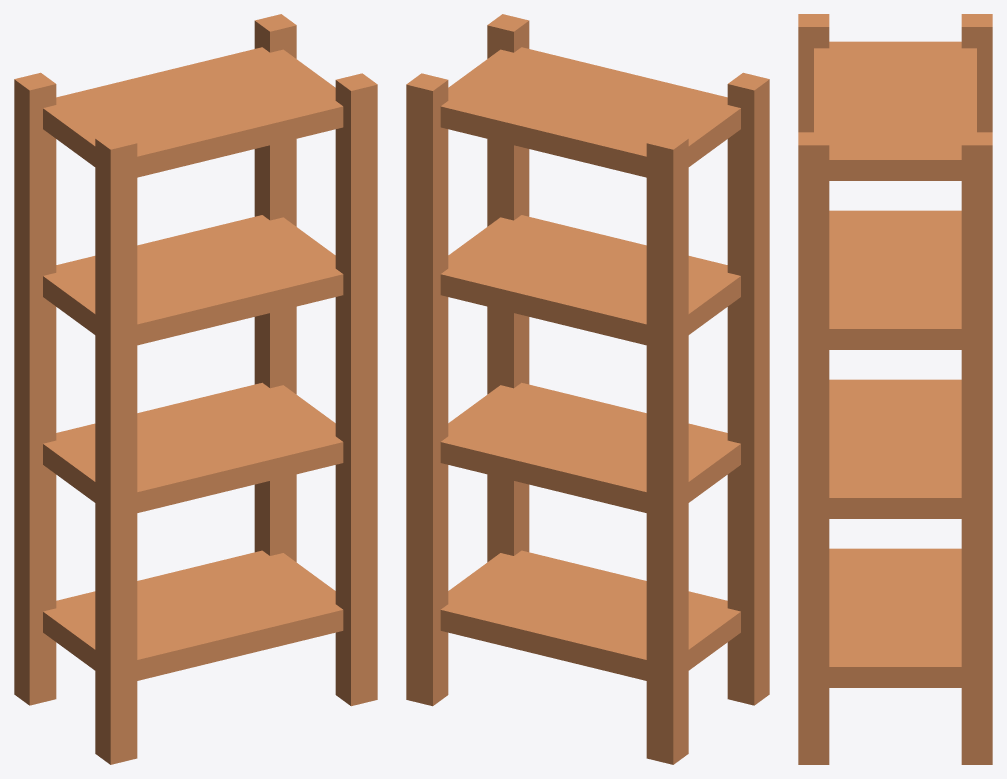
The model's file is bookcaseopen.gltf.
The picture shows the model from 3 angles, left to right: view 1: azimuth 30°, elevation 25°; view 2: azimuth 150°, elevation 25°; view 3: azimuth 270°, elevation 25°; orthographic projection.
Parts seen in each view (by area): view 1: bookcaseopen; view 2: bookcaseopen; view 3: bookcaseopen.
Boxes of the visible parts, <box> form: bookcaseopen: <box>14,14,377,764</box>; bookcaseopen: <box>406,14,769,764</box>; bookcaseopen: <box>798,14,992,764</box>.
Bounding box in the file's own units: 0.4 × 0.88 × 0.25.
1 material, 1 textured.
